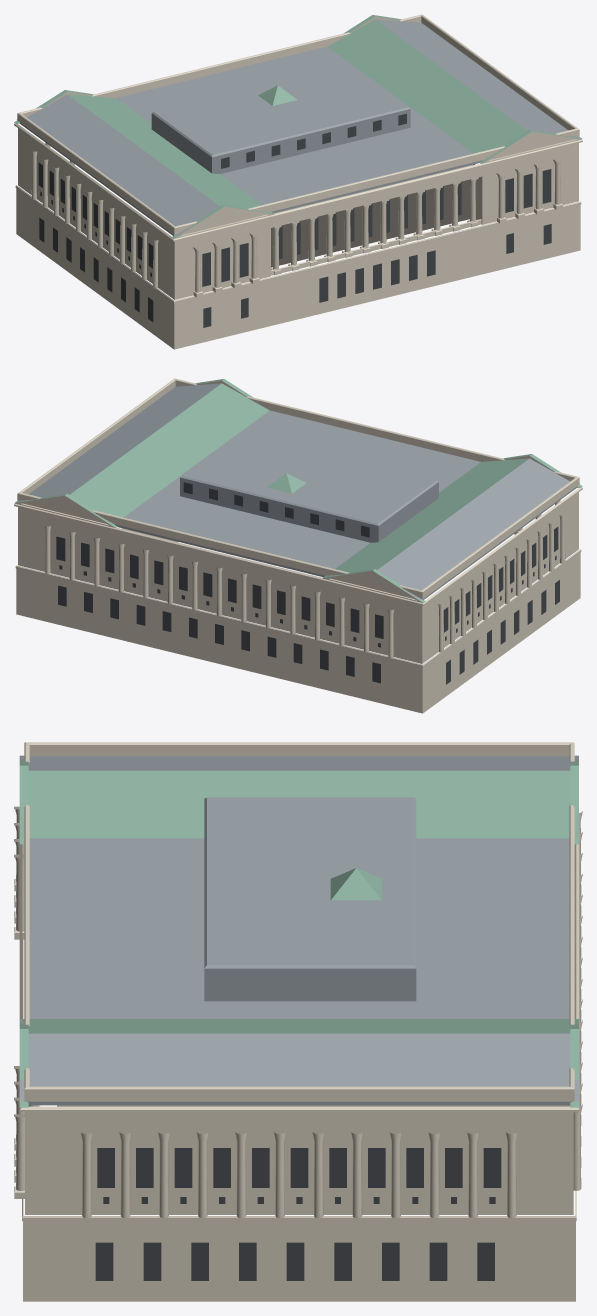
File: phl-free-library-parkway.glb
The picture shows the model from 3 angles, top to bottom: view 1: azimuth 30°, elevation 25°; view 2: azimuth 150°, elevation 25°; view 3: azimuth 270°, elevation 25°; orthographic projection. The views are drawn at different scales.
Parts seen in each view (by area): view 1: Parkway Central Library; view 2: Parkway Central Library; view 3: Parkway Central Library.
Boxes of the visible parts, x1,y1,x2,y2 form: Parkway Central Library: (14,14,582,349); Parkway Central Library: (14,378,582,713); Parkway Central Library: (14,742,582,1301).
Size of the model in its own units: 94.7 by 32 by 64.41.
